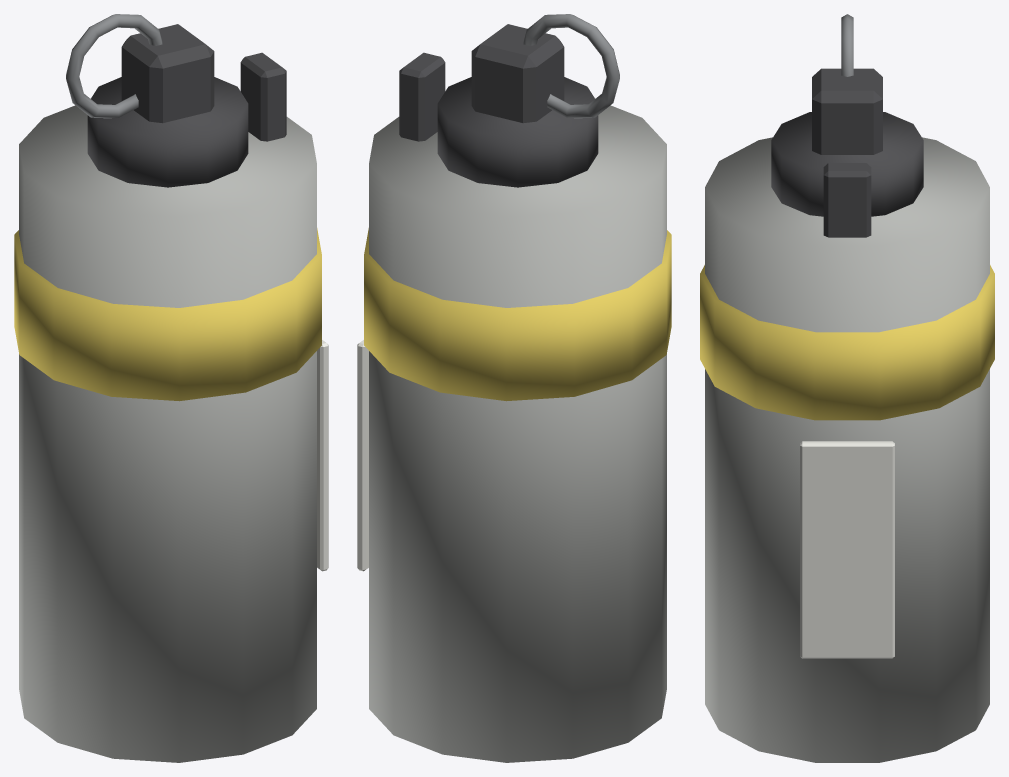
The model's file is smoke_grenade.glb.
3 views of the same model, side by side, from view 1: azimuth 30°, elevation 25°; view 2: azimuth 150°, elevation 25°; view 3: azimuth 270°, elevation 25° (orthographic). The views are drawn at different scales.
Visible parts, largest first — view 1: Smoke_grenade; view 2: Smoke_grenade; view 3: Smoke_grenade.
Part boxes in pixels (x1,y1,x2,y2): Smoke_grenade: (14,14,328,762); Smoke_grenade: (357,14,671,762); Smoke_grenade: (700,14,994,762).
Size of the model in its own units: 0.0617 by 0.1535 by 0.062.
